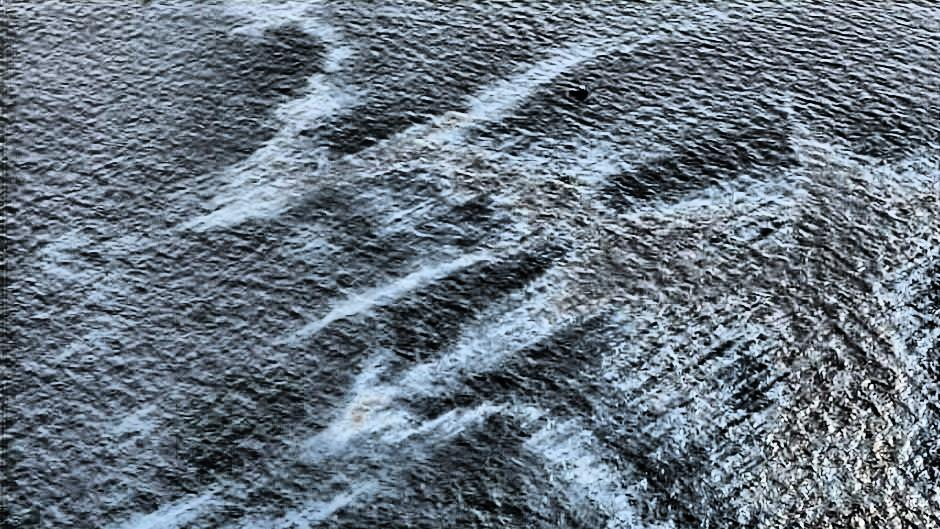sheen: (191, 63, 940, 528)
